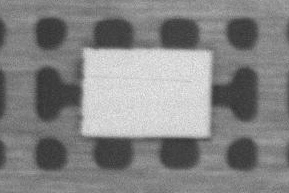DIE_CRACK: (135, 51, 286, 54)
